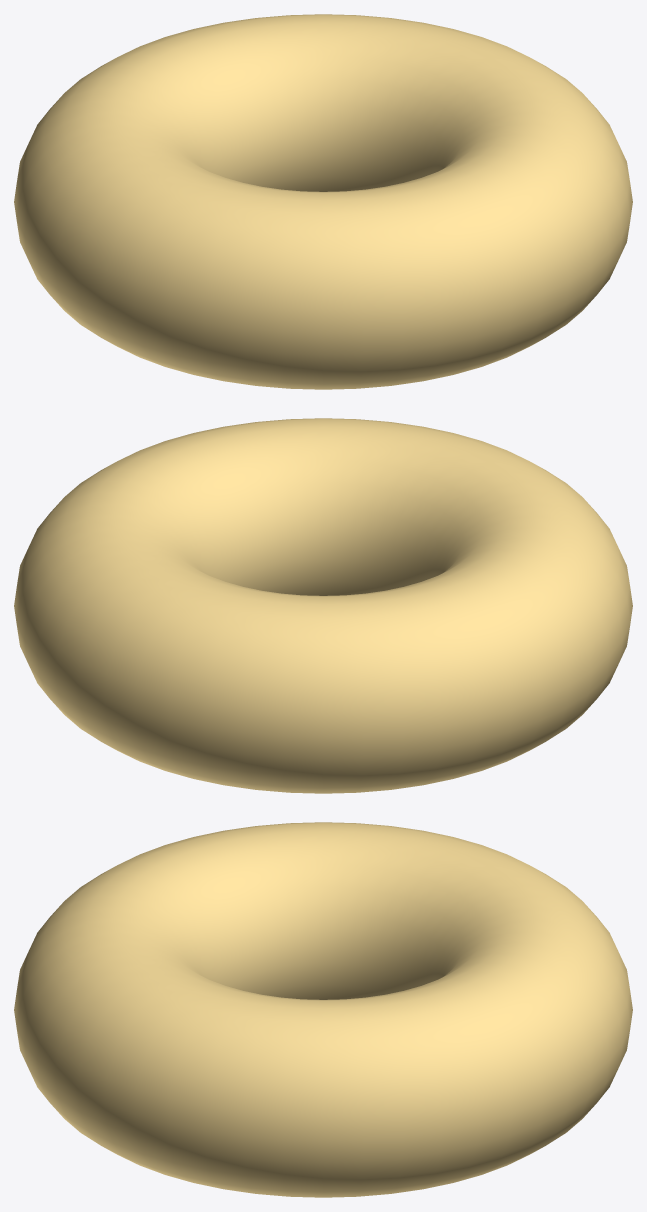
Rendered from variants.gltf.
3 renders of one model, top to bottom at view 1: azimuth 30°, elevation 25°; view 2: azimuth 150°, elevation 25°; view 3: azimuth 270°, elevation 25°, orthographic.
Visible parts, largest first — view 1: ring; view 2: ring; view 3: ring.
Boxes of the visible parts, x1=… form: ring: x1=14, y1=14, x2=632, y2=389; ring: x1=14, y1=418, x2=632, y2=793; ring: x1=14, y1=822, x2=632, y2=1197.
Size of the model in its own units: 1.06 by 0.34 by 1.06.
